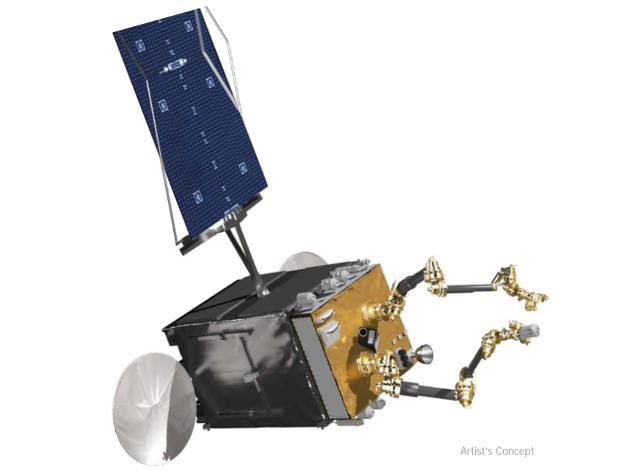antenna: (109, 352, 200, 469), (278, 248, 330, 275)
body: (159, 261, 420, 437)
solar: (109, 4, 270, 257)
thruster: (412, 342, 436, 367)
